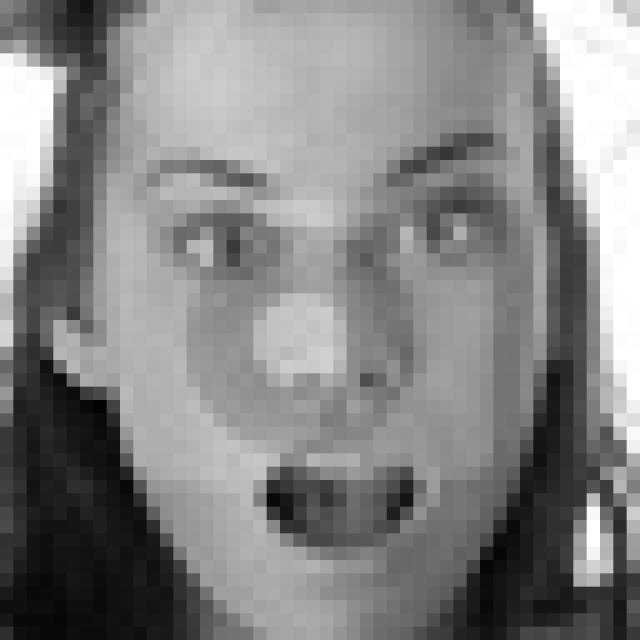surprise: (145, 125, 524, 585)
